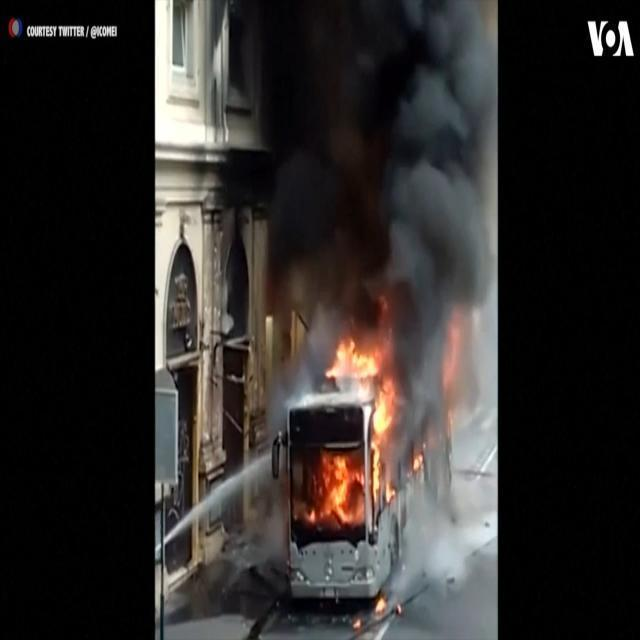fire: (294, 297, 437, 536)
